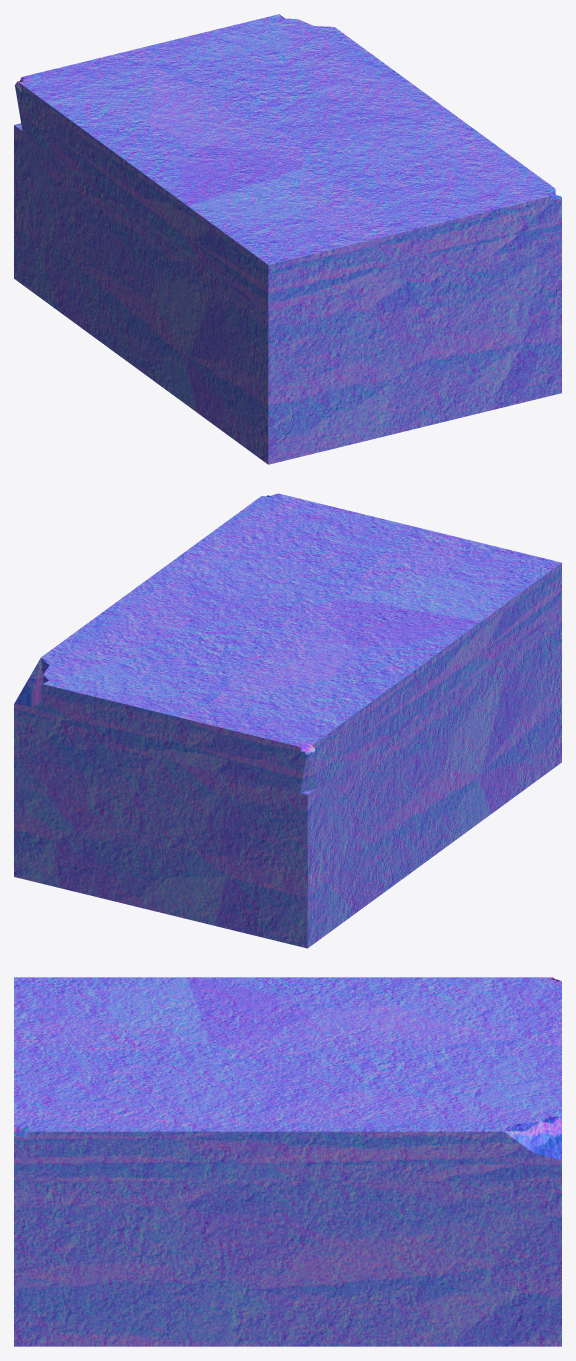
Rendered from sarcophagus.fbx.
3 renders of one model, top to bottom at view 1: azimuth 30°, elevation 25°; view 2: azimuth 150°, elevation 25°; view 3: azimuth 270°, elevation 25°, orthographic. The views are drawn at different scales.
Parts seen in each view (by area): view 1: lid, base; view 2: lid, base; view 3: lid, base.
Part boxes in pixels (x1,y1,x2,y2): lid: (14, 14, 561, 310); base: (14, 123, 561, 464); lid: (14, 493, 561, 792); base: (14, 609, 561, 948); lid: (14, 977, 561, 1181); base: (14, 1181, 561, 1346).
Size of the model in its own units: 200 by 130 by 300.
